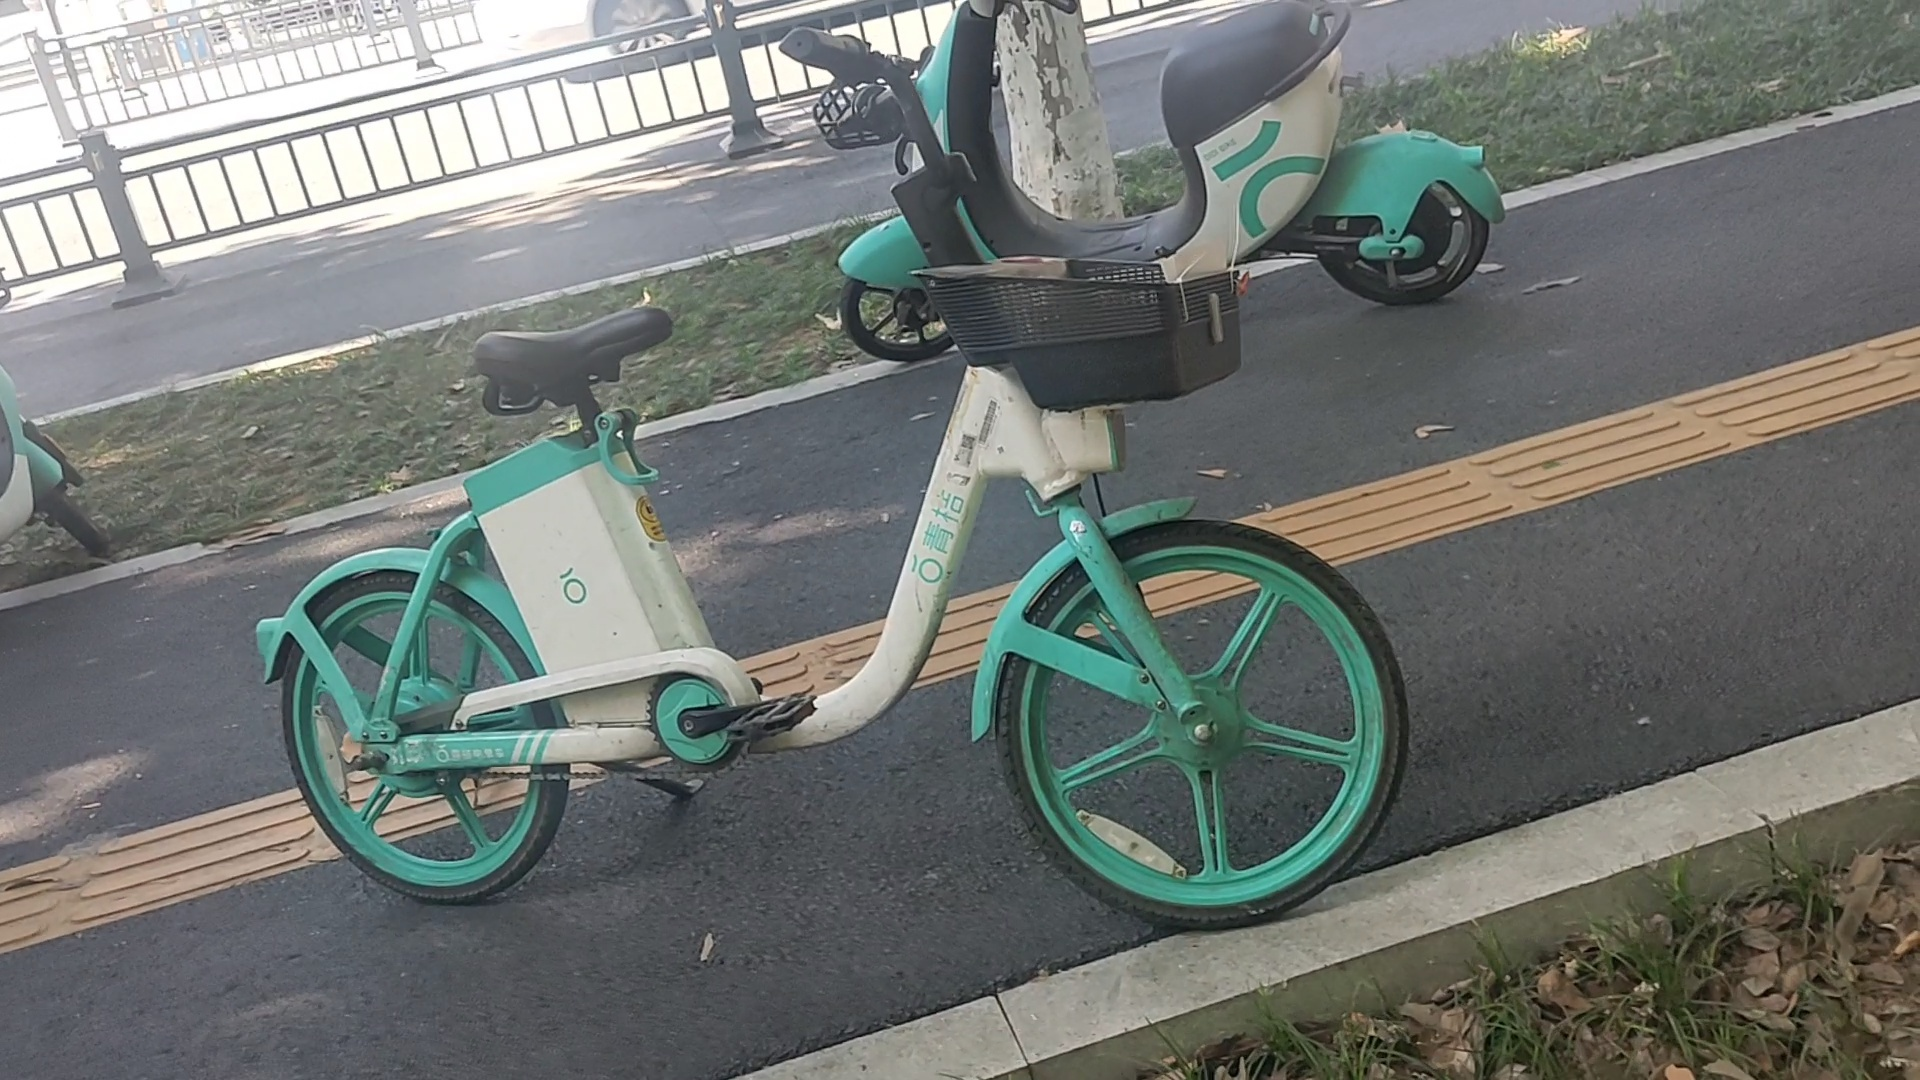non-vehicle: (214, 18, 1441, 967), (831, 1, 1516, 349)
